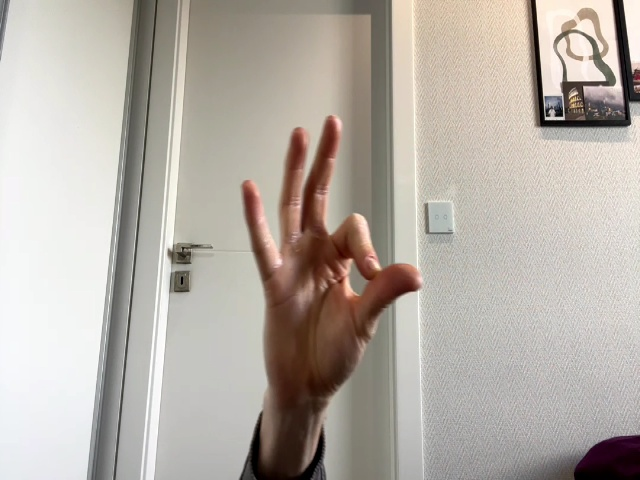S: (241, 116, 423, 394)
